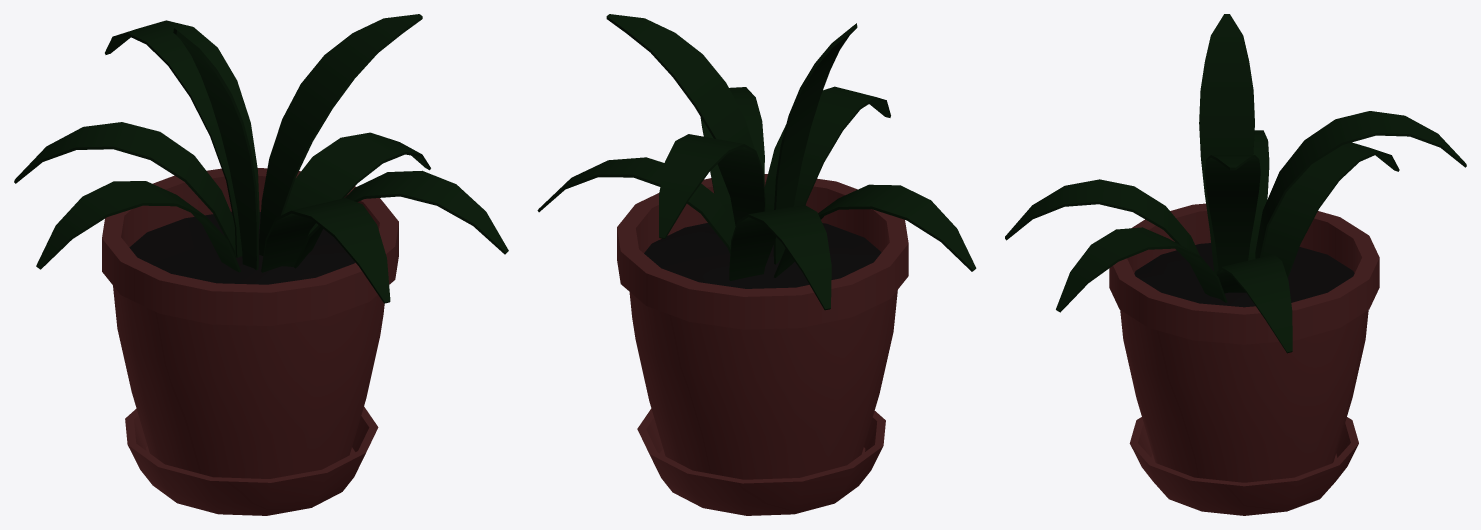
The model's file is plant_lod0.fbx.
3 renders of one model, left to right at view 1: azimuth 30°, elevation 25°; view 2: azimuth 150°, elevation 25°; view 3: azimuth 270°, elevation 25°, orthographic. The views are drawn at different scales.
Visible parts, largest first — view 1: Cylinder002, Cylinder001, Box007, Box005, Box008, Box003, Box006, Box002, Box001, Box004; view 2: Cylinder002, Cylinder001, Box008, Box003, Box007, Box005, Box002, Box001, Box006, Box004; view 3: Cylinder002, Cylinder001, Box002, Box008, Box003, Box007, Box004, Box005, Box006, Box001.
Part boxes in pixels (box(x1,y1,x2,y2)): Cylinder002: box(102, 168, 398, 478); Cylinder001: box(125, 406, 378, 515); Box007: box(259, 14, 422, 255); Box005: box(261, 198, 390, 303); Box008: box(105, 20, 259, 257); Box003: box(14, 122, 236, 257); Box006: box(283, 132, 430, 235); Box002: box(173, 28, 258, 270); Box001: box(36, 181, 241, 272); Box004: box(294, 170, 508, 268); Cylinder002: box(617, 174, 908, 479); Cylinder001: box(637, 408, 885, 515); Box008: box(659, 134, 765, 238); Box003: box(729, 205, 831, 310); Box007: box(606, 14, 754, 149); Box005: box(764, 86, 890, 211); Box002: box(773, 23, 857, 264); Box001: box(774, 184, 976, 277); Box006: box(537, 157, 735, 253); Box004: box(700, 87, 764, 222); Cylinder002: box(1109, 203, 1379, 482); Cylinder001: box(1129, 417, 1358, 515); Box002: box(1199, 14, 1254, 273); Box008: box(1255, 111, 1466, 258); Box003: box(1262, 142, 1399, 277); Box007: box(1205, 155, 1260, 269); Box004: box(1056, 227, 1227, 312); Box005: box(1005, 179, 1199, 255); Box006: box(1216, 254, 1292, 353); Box001: box(1248, 130, 1269, 260).
Size of the model in its own units: 39.93 by 42.26 by 43.
